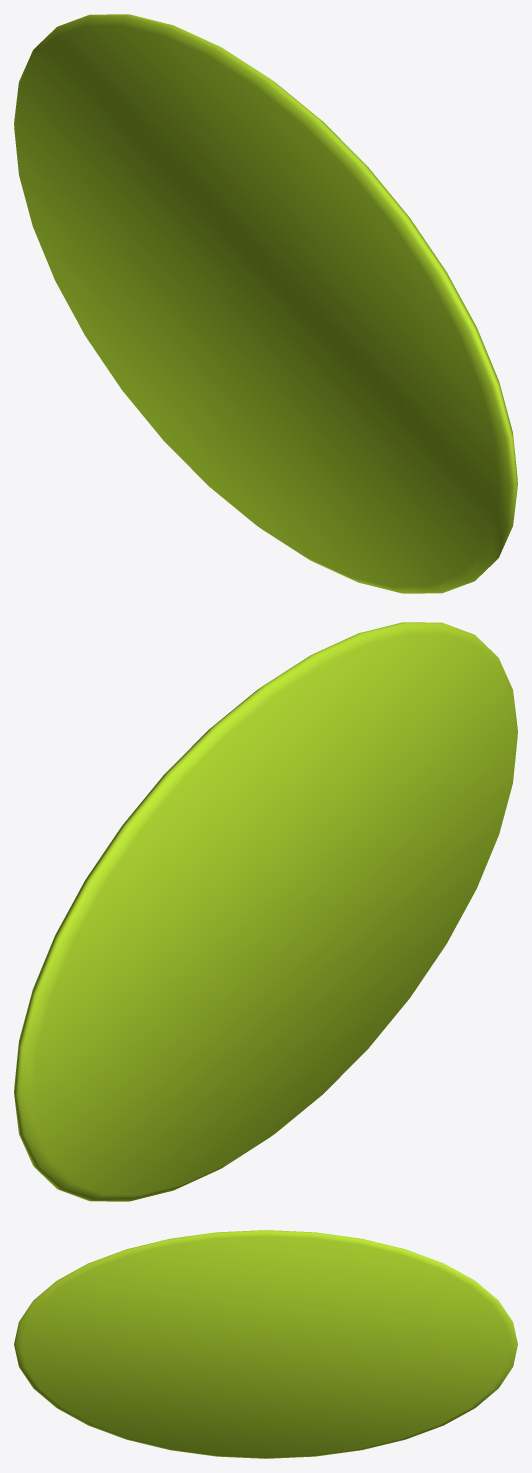
File: Reklama.fbx
3 renders of one model, top to bottom at view 1: azimuth 30°, elevation 25°; view 2: azimuth 150°, elevation 25°; view 3: azimuth 270°, elevation 25°, orthographic. The views are drawn at different scales.
Parts seen in each view (by area): view 1: Circle; view 2: Circle; view 3: Circle.
Part boxes in pixels (box(x1,y1,x2,y2)): Circle: box(14, 14, 517, 593); Circle: box(14, 622, 517, 1201); Circle: box(14, 1230, 517, 1458).
Size of the model in its own units: 1.6 by 36.33 by 72.76.
